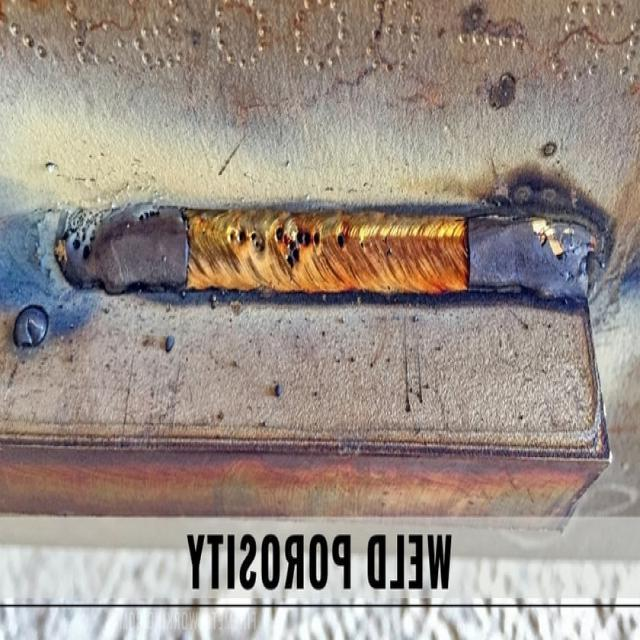Porosity: (273, 223, 324, 275), (79, 204, 110, 247), (66, 206, 87, 234), (249, 226, 266, 255), (235, 221, 250, 250), (137, 208, 162, 223), (336, 231, 347, 255), (382, 233, 392, 257), (81, 243, 94, 261), (226, 226, 236, 249), (70, 236, 82, 254), (357, 236, 365, 250)
